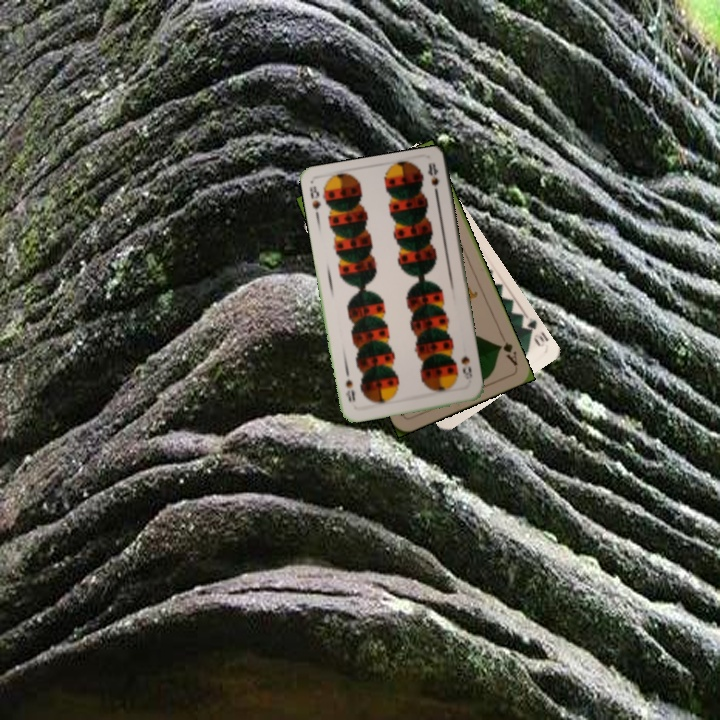G10: (518, 312, 551, 349)
GA: (494, 331, 520, 368)
S8: (457, 352, 475, 382), (305, 182, 323, 212)
